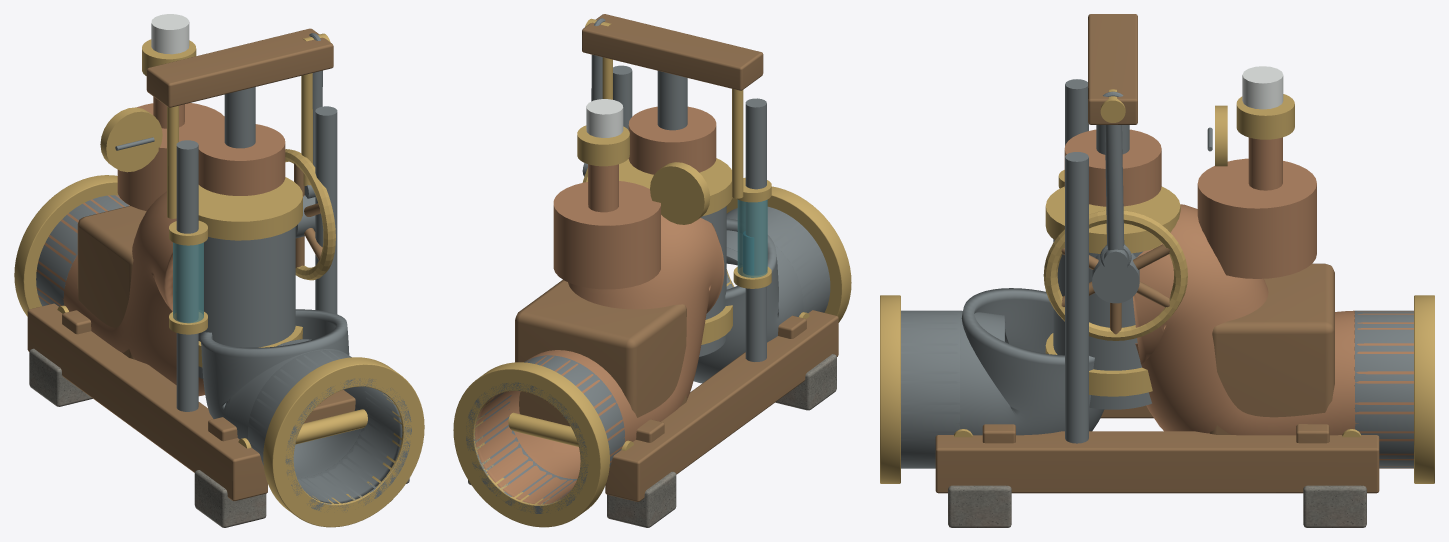
File: pipe-pump-v2.glb
The picture shows the model from 3 angles, left to right: view 1: azimuth 30°, elevation 25°; view 2: azimuth 150°, elevation 25°; view 3: azimuth 270°, elevation 25°; orthographic projection. The views are drawn at different scales.
Parts seen in each view (by area): view 1: PIPE | south inlet from native port | hollow smooth mesh, FRAME | rough lengthwise timber runner, PORT | inlet-south | machine_collar, PUMP | forged upright pressure barrel, PIPE | north high-pressure discharge to native port | hollow, MOTION | crosshead on straight guides, FIREBOX | battered driftwood and metal combustion case, FRAME | independent blackened steel riser, PORT | inlet-south | machine_throat, MOTION | polished plunger head, PUMP | upper sealing band, PORT | outlet-north | machine_collar (+19 smaller); view 2: PIPE | north high-pressure discharge to native port | hollow, FIREBOX | battered driftwood and metal combustion case, FRAME | rough lengthwise timber runner, PORT | outlet-north | machine_collar, STEAM | humble copper pressure dome, MOTION | crosshead on straight guides, PIPE | south inlet from native port | hollow smooth mesh, PORT | outlet-north | machine_throat, FRAME | independent blackened steel riser, MOTION | polished plunger head, PORT | inlet-south | machine_collar, PORT | inlet-south | machine_throat (+19 smaller); view 3: FRAME | rough lengthwise timber runner.001, PIPE | north high-pressure discharge to native port | hollow, PIPE | south inlet from native port | hollow smooth mesh, FIREBOX | battered driftwood and metal combustion case, STEAM | humble copper pressure dome, PORT | outlet-north | machine_throat, PORT | inlet-south | machine_throat, FRAME | independent blackened steel riser.001, MOTION | crosshead on straight guides, PUMP | forged upright pressure barrel, MOTION | cast bronze wheel rim, MOTION | polished plunger head (+15 smaller).
Boxes of the visible parts, x1,y1,x2,y2 form: PIPE | south inlet from native port | hollow smooth mesh: (200,309,402,503); FRAME | rough lengthwise timber runner: (27,303,267,501); PORT | inlet-south | machine_collar: (263,357,424,527); PUMP | forged upright pressure barrel: (198,226,295,378); PIPE | north high-pressure discharge to native port | hollow: (36,191,205,396); MOTION | crosshead on straight guides: (146,28,333,107); FIREBOX | battered driftwood and metal combustion case: (77,205,146,359); FRAME | independent blackened steel riser: (176,140,198,411); PORT | inlet-south | machine_throat: (248,350,411,511); MOTION | polished plunger head: (195,124,285,195); PUMP | upper sealing band: (198,177,302,240); PORT | outlet-north | machine_collar: (14,175,118,316); PIPE | north high-pressure discharge to native port | hollow: (475,215,724,504); FIREBOX | battered driftwood and metal combustion case: (515,280,687,426); FRAME | rough lengthwise timber runner: (605,310,838,501); PORT | outlet-north | machine_collar: (453,362,609,527); STEAM | humble copper pressure dome: (553,181,660,289); MOTION | crosshead on straight guides: (582,14,763,90); PIPE | south inlet from native port | hollow smooth mesh: (693,208,829,383); PORT | outlet-north | machine_throat: (466,355,624,513); FRAME | independent blackened steel riser: (745,98,766,361); MOTION | polished plunger head: (628,106,716,174); PORT | inlet-south | machine_collar: (726,186,851,322); PORT | inlet-south | machine_throat: (726,206,830,312); FRAME | rough lengthwise timber runner.001: (935,431,1379,493); PIPE | north high-pressure discharge to native port | hollow: (1133,204,1413,468); PIPE | south inlet from native port | hollow smooth mesh: (901,288,1104,468); FIREBOX | battered driftwood and metal combustion case: (1210,263,1334,434); STEAM | humble copper pressure dome: (1197,158,1316,278); PORT | outlet-north | machine_throat: (1354,310,1413,468); PORT | inlet-south | machine_throat: (901,310,960,468); FRAME | independent blackened steel riser.001: (1065,152,1088,443); MOTION | crosshead on straight guides: (1088,14,1137,124); PUMP | forged upright pressure barrel: (1053,239,1151,409); MOTION | cast bronze wheel rim: (1043,210,1187,340); MOTION | polished plunger head: (1064,129,1161,206).
Size of the model in its own units: 0.84 by 1.7 by 2.
Materials: 8 (1 with a texture image).
